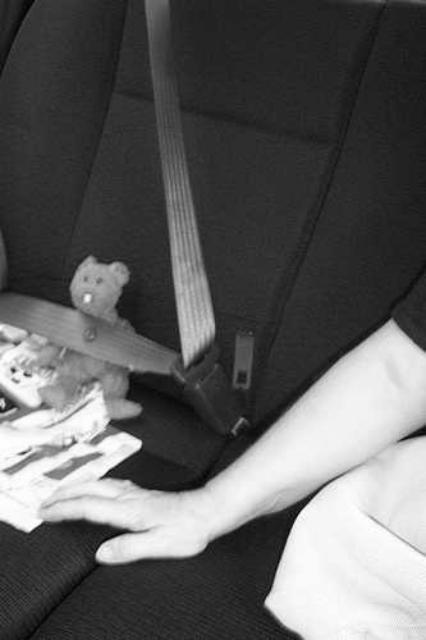Seatbelt: (0, 0, 226, 384)
